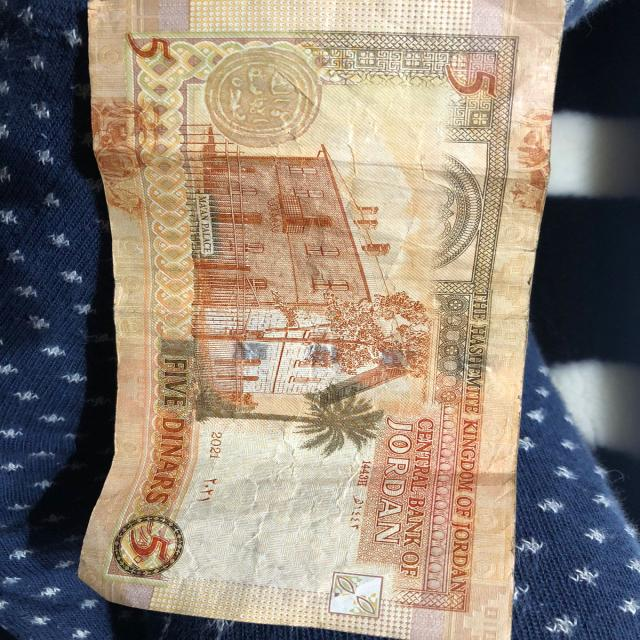5-dinar: (82, 0, 567, 640)
